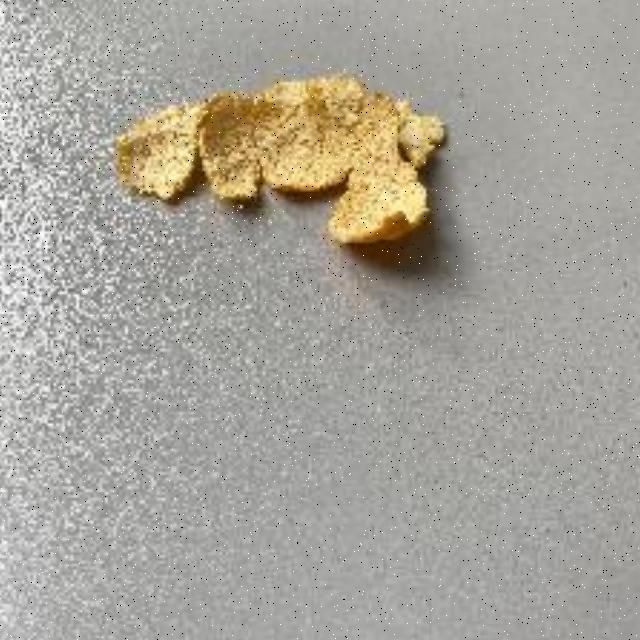orange-peel: (110, 68, 448, 248)
